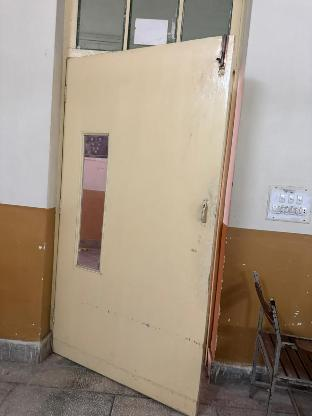door: (46, 0, 247, 410)
